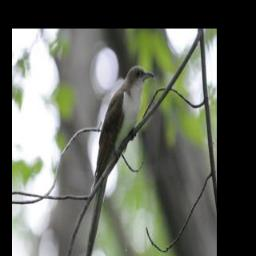Cuckoo: (82, 62, 154, 256)
